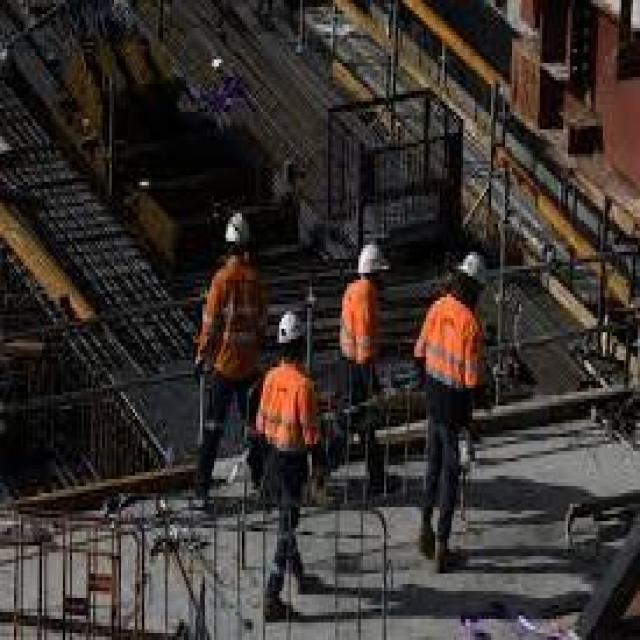Reflective-Jacket: (195, 252, 268, 388), (246, 357, 324, 482), (414, 290, 491, 416), (333, 276, 391, 378)
Safety-Helmet: (347, 231, 393, 287), (449, 242, 494, 298), (270, 300, 309, 356), (221, 207, 254, 256)
